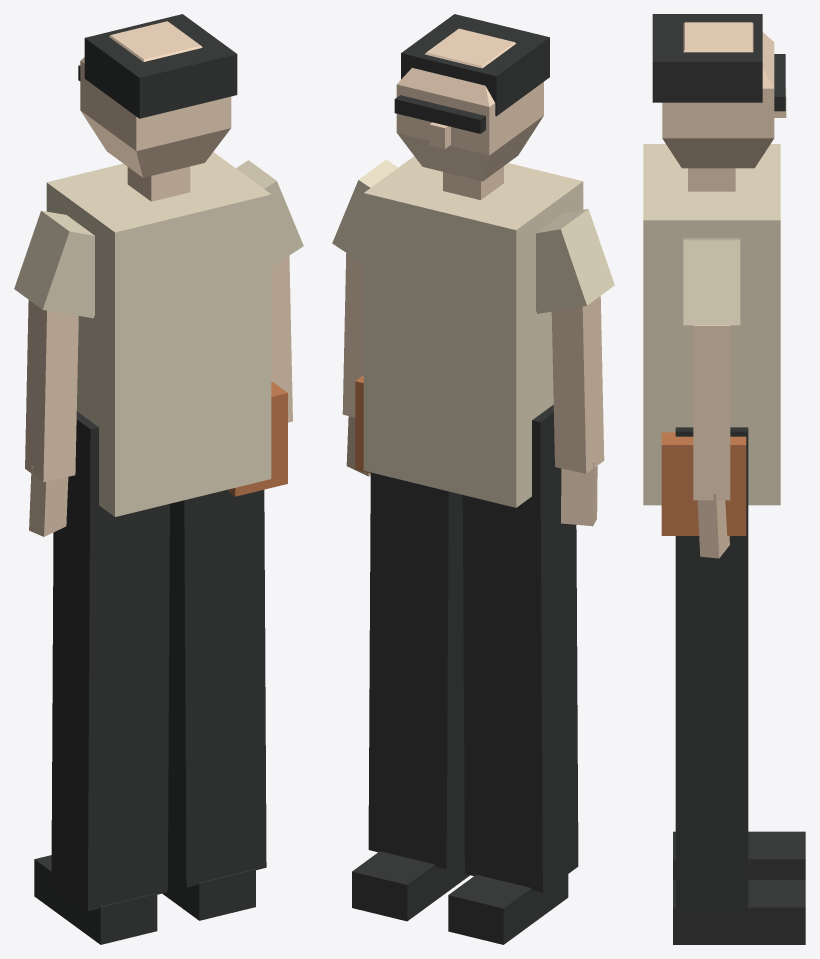
The model's file is pedestrian_11.glb.
3 renders of one model, left to right at view 1: azimuth 30°, elevation 25°; view 2: azimuth 150°, elevation 25°; view 3: azimuth 270°, elevation 25°, orthographic. The views are drawn at different scales.
Visible parts, largest first — view 1: pedestrian_11 crowd_trousers, pedestrian_11 crowd_shirt, pedestrian_11 crowd_skin, pedestrian_11 crowd_rubber, pedestrian_11 crowd_accessory; view 2: pedestrian_11 crowd_trousers, pedestrian_11 crowd_shirt, pedestrian_11 crowd_skin, pedestrian_11 crowd_rubber, pedestrian_11 crowd_accessory; view 3: pedestrian_11 crowd_shirt, pedestrian_11 crowd_trousers, pedestrian_11 crowd_skin, pedestrian_11 crowd_rubber, pedestrian_11 crowd_accessory.
Part boxes in pixels (bbox=[...]): pedestrian_11 crowd_trousers: bbox=[51, 411, 266, 910]; pedestrian_11 crowd_shirt: bbox=[14, 152, 303, 516]; pedestrian_11 crowd_skin: bbox=[25, 21, 292, 536]; pedestrian_11 crowd_rubber: bbox=[34, 14, 255, 944]; pedestrian_11 crowd_accessory: bbox=[228, 381, 287, 496]; pedestrian_11 crowd_trousers: bbox=[368, 405, 578, 892]; pedestrian_11 crowd_shirt: bbox=[332, 156, 614, 507]; pedestrian_11 crowd_skin: bbox=[342, 28, 604, 526]; pedestrian_11 crowd_rubber: bbox=[352, 14, 568, 944]; pedestrian_11 crowd_accessory: bbox=[355, 375, 370, 473]; pedestrian_11 crowd_shirt: bbox=[643, 144, 780, 505]; pedestrian_11 crowd_trousers: bbox=[675, 427, 748, 914]; pedestrian_11 crowd_skin: bbox=[662, 22, 786, 558]; pedestrian_11 crowd_rubber: bbox=[652, 14, 805, 944]; pedestrian_11 crowd_accessory: bbox=[661, 432, 746, 535].
Bounding box in the file's own units: 0.5488 × 1.74 × 0.2952.
